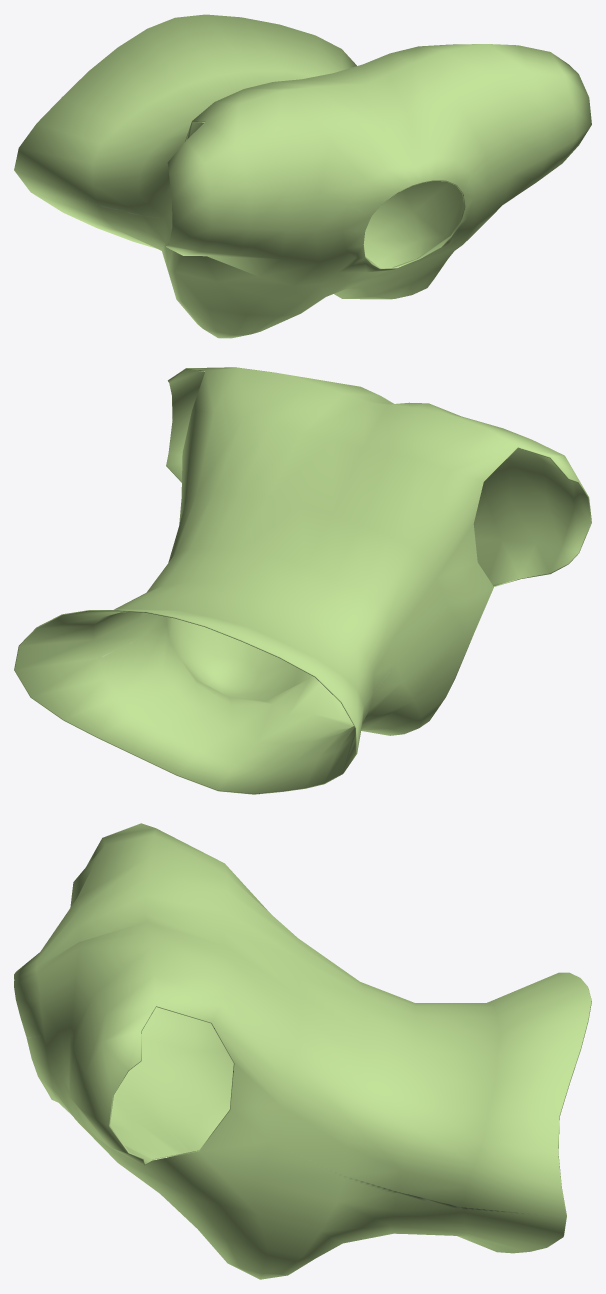
Rendered from elficArmor.fbx.
3 renders of one model, top to bottom at view 1: azimuth 30°, elevation 25°; view 2: azimuth 150°, elevation 25°; view 3: azimuth 270°, elevation 25°, orthographic. The views are drawn at different scales.
Visible parts, largest first — view 1: elficArmor; view 2: elficArmor; view 3: elficArmor.
Part boxes in pixels (<box>): elficArmor: <box>14,14,591,338</box>; elficArmor: <box>14,367,591,794</box>; elficArmor: <box>14,823,591,1279</box>.
Size of the model in its own units: 0.3488 by 0.2313 by 0.3576.
Materials: 1 (1 with a texture image).
